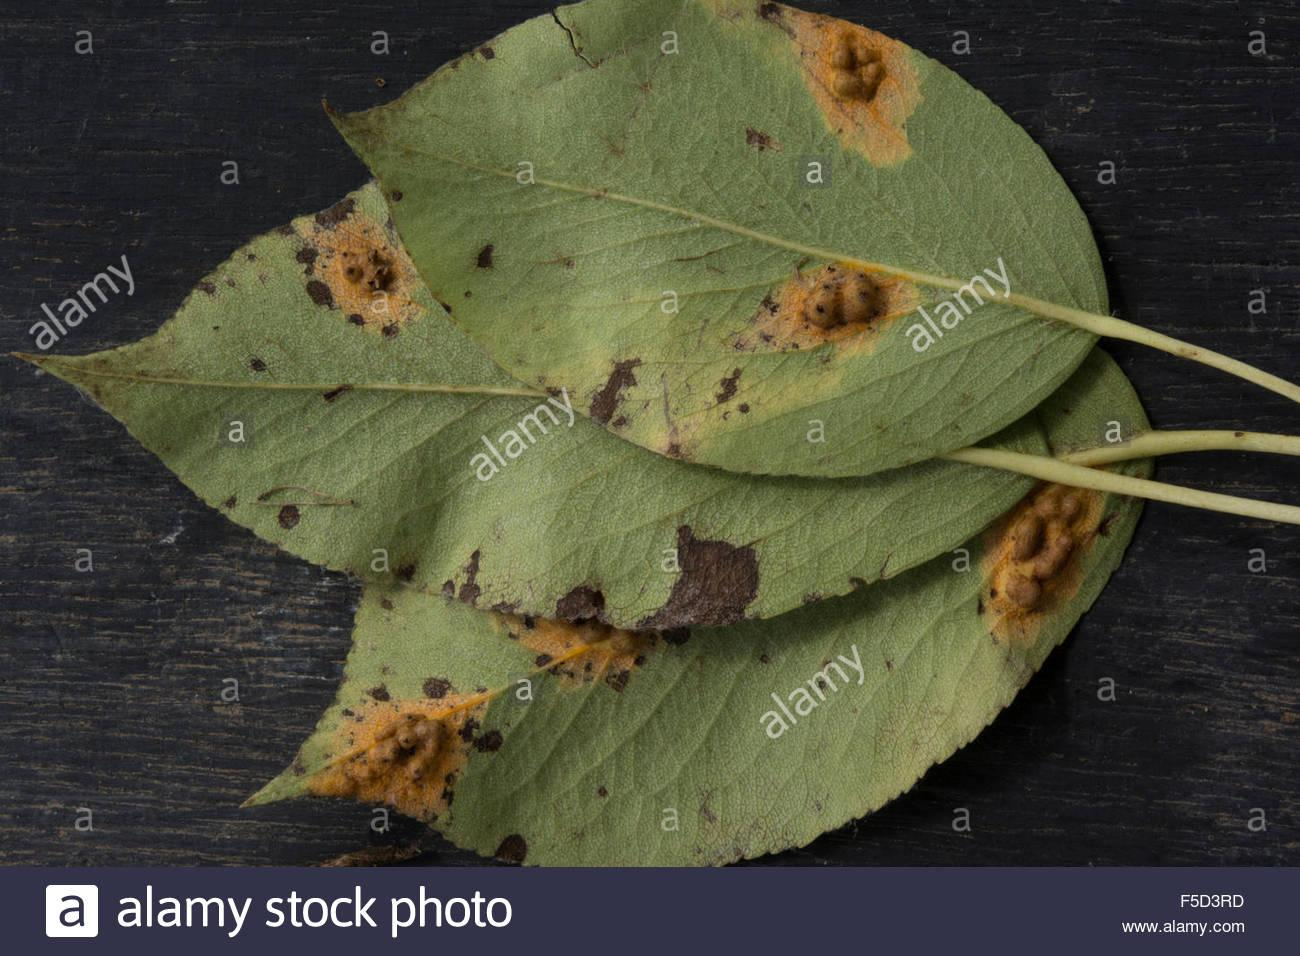Apple rust leaf: (303, 13, 1195, 480), (264, 461, 1236, 874), (67, 217, 1104, 594)
